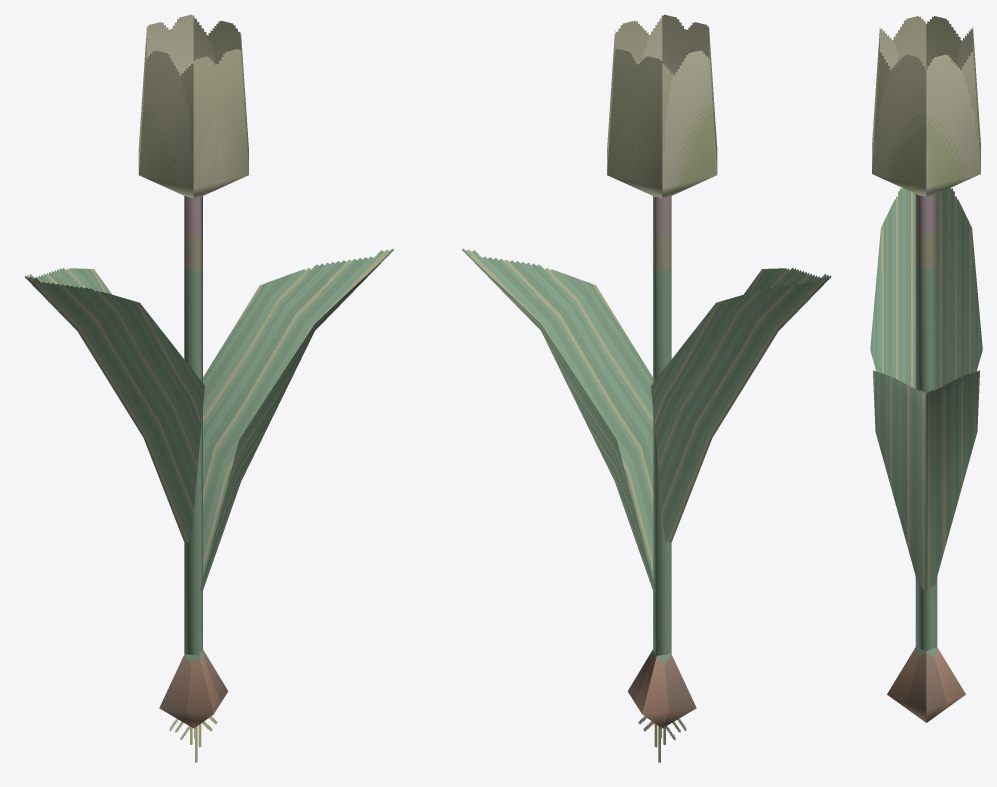
Rendered from 04c5_White_Tulip.glb.
The picture shows the model from 3 angles, left to right: view 1: azimuth 30°, elevation 25°; view 2: azimuth 150°, elevation 25°; view 3: azimuth 270°, elevation 25°; orthographic projection.
Visible parts, largest first — view 1: part_0; view 2: part_0; view 3: part_0.
Boxes of the visible parts, x1,y1,x2,y2 form: part_0: (24, 14, 393, 762); part_0: (462, 14, 831, 762); part_0: (870, 16, 982, 722).
Bounding box in the file's own units: 0.2177 × 0.38 × 0.0535.
1 material, 1 textured.
